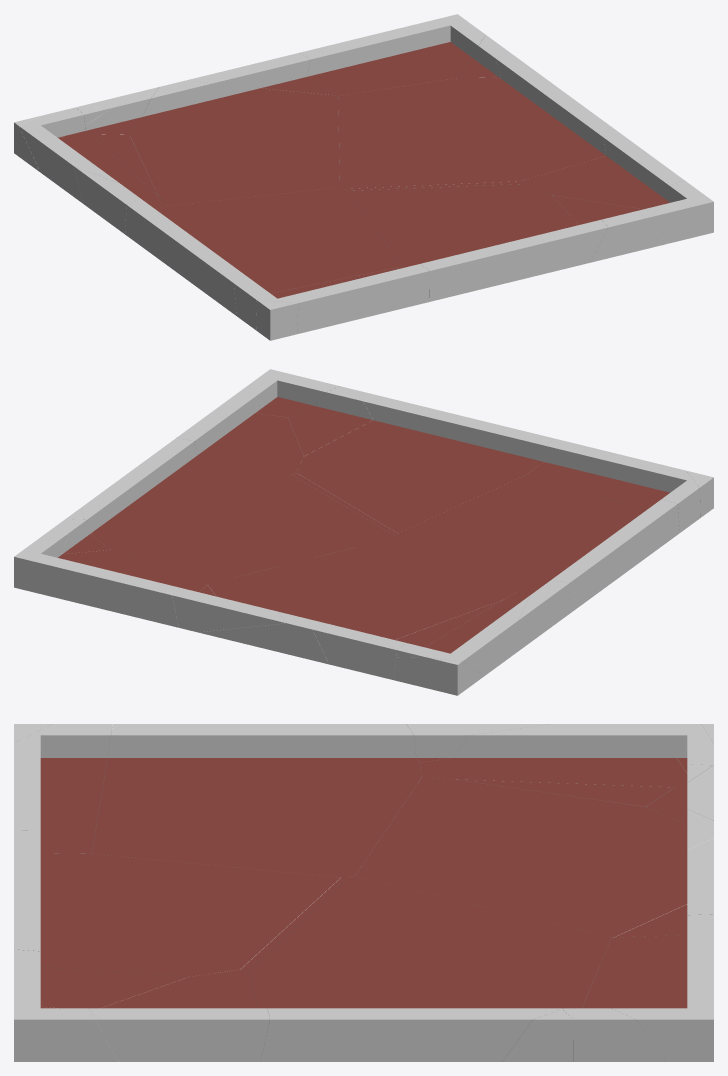
File: roof01_Ax.fbx
The picture shows the model from 3 angles, top to bottom: view 1: azimuth 30°, elevation 25°; view 2: azimuth 150°, elevation 25°; view 3: azimuth 270°, elevation 25°; orthographic projection. The views are drawn at different scales.
Parts seen in each view (by area): view 1: roof01_A_cell.017, roof01_A_cell.003, roof01_A_cell.001, roof01_A_cell.018, roof01_A_cell.007, roof01_A_cell, roof01_A_cell.012, roof01_A_cell.002, roof01_A_cell.005, roof01_A_cell.008, roof01_A_cell.014, roof01_A_cell.013 (+6 smaller); view 2: roof01_A_cell.017, roof01_A_cell.001, roof01_A_cell.003, roof01_A_cell.018, roof01_A_cell.007, roof01_A_cell, roof01_A_cell.012, roof01_A_cell.002, roof01_A_cell.005, roof01_A_cell.014, roof01_A_cell.006, roof01_A_cell.008 (+5 smaller); view 3: roof01_A_cell.017, roof01_A_cell.001, roof01_A_cell.003, roof01_A_cell.018, roof01_A_cell.002, roof01_A_cell.007, roof01_A_cell.012, roof01_A_cell, roof01_A_cell.008, roof01_A_cell.005, roof01_A_cell.009, roof01_A_cell.014 (+5 smaller).
Part boxes in pixels (left/top/right/bottom): roof01_A_cell.017: left=338, top=58, right=619, bottom=188; roof01_A_cell.003: left=129, top=80, right=339, bottom=205; roof01_A_cell.001: left=125, top=187, right=401, bottom=315; roof01_A_cell.018: left=347, top=184, right=608, bottom=301; roof01_A_cell.007: left=300, top=14, right=485, bottom=97; roof01_A_cell: left=234, top=264, right=429, bottom=334; roof01_A_cell.012: left=520, top=133, right=683, bottom=208; roof01_A_cell.002: left=19, top=107, right=167, bottom=208; roof01_A_cell.005: left=552, top=195, right=667, bottom=262; roof01_A_cell.008: left=639, top=180, right=713, bottom=243; roof01_A_cell.014: left=186, top=52, right=336, bottom=95; roof01_A_cell.013: left=74, top=166, right=140, bottom=233; roof01_A_cell.017: left=80, top=438, right=394, bottom=583; roof01_A_cell.001: left=394, top=475, right=679, bottom=614; roof01_A_cell.003: left=198, top=538, right=517, bottom=664; roof01_A_cell.018: left=296, top=395, right=553, bottom=533; roof01_A_cell.007: left=14, top=533, right=207, bottom=627; roof01_A_cell: left=525, top=438, right=700, bottom=532; roof01_A_cell.012: left=177, top=391, right=303, bottom=474; roof01_A_cell.002: left=396, top=591, right=530, bottom=676; roof01_A_cell.005: left=288, top=386, right=375, bottom=463; roof01_A_cell.014: left=172, top=585, right=285, bottom=632; roof01_A_cell.006: left=313, top=627, right=396, bottom=680; roof01_A_cell.008: left=241, top=369, right=339, bottom=417; roof01_A_cell.017: left=249, top=876, right=611, bottom=1061; roof01_A_cell.001: left=92, top=724, right=421, bottom=877; roof01_A_cell.003: left=355, top=777, right=713, bottom=937; roof01_A_cell.018: left=14, top=830, right=340, bottom=976; roof01_A_cell.002: left=419, top=724, right=713, bottom=787; roof01_A_cell.007: left=582, top=914, right=713, bottom=1061; roof01_A_cell.012: left=89, top=969, right=269, bottom=1061; roof01_A_cell: left=14, top=724, right=112, bottom=853; roof01_A_cell.008: left=14, top=973, right=118, bottom=1061; roof01_A_cell.005: left=14, top=949, right=188, bottom=1008; roof01_A_cell.009: left=562, top=1008, right=668, bottom=1061; roof01_A_cell.014: left=615, top=838, right=713, bottom=937.
Size of the model in its own units: 890 by 59.18 by 891.
